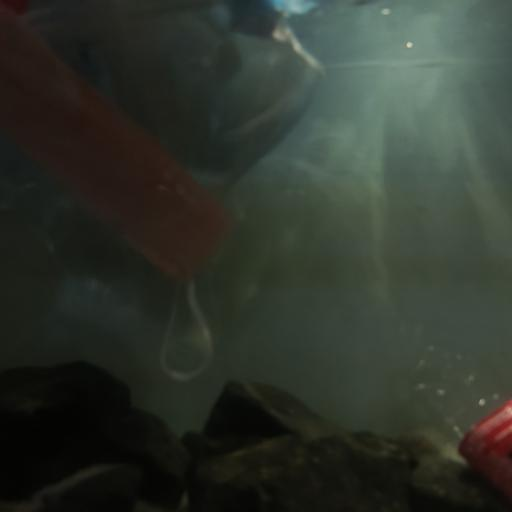mask: (2, 4, 228, 382), (74, 2, 328, 180), (401, 344, 512, 497)
